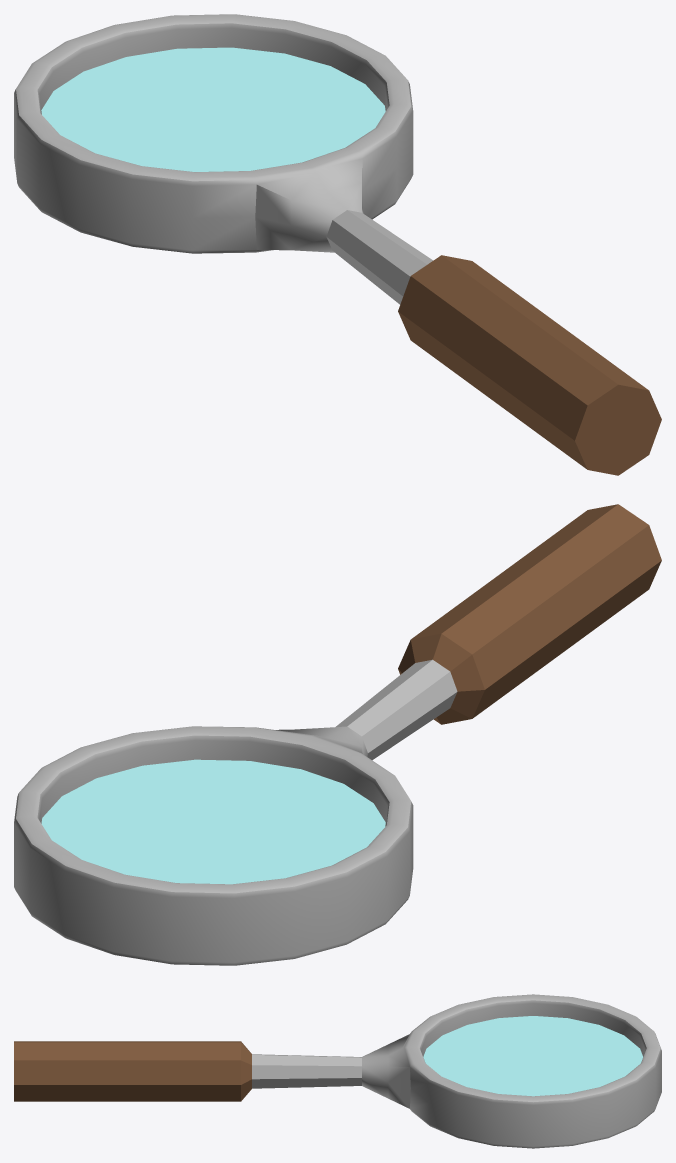
Rendered from Lupa.fbx.
3 views of the same model, one above another, from view 1: azimuth 30°, elevation 25°; view 2: azimuth 150°, elevation 25°; view 3: azimuth 270°, elevation 25° (orthographic). The views are drawn at different scales.
Parts seen in each view (by area): view 1: Lupa; view 2: Lupa; view 3: Lupa.
Boxes of the visible parts, bbox=[...] form: Lupa: bbox=[14, 14, 661, 475]; Lupa: bbox=[14, 504, 661, 965]; Lupa: bbox=[14, 994, 661, 1148].
Bounding box in the file's own units: 2.56 × 0.6405 × 6.44.
